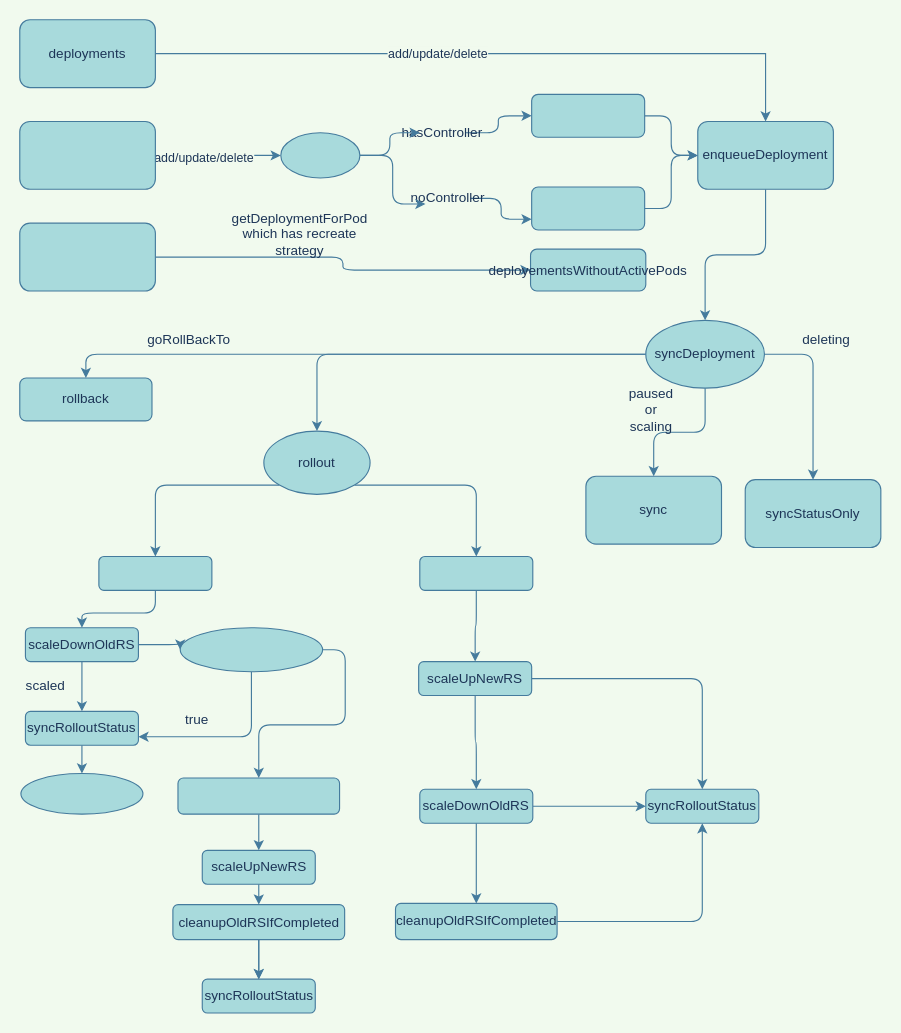
Image size: 901x1033. Some labels were removed from this diagram. The centre of each missing label's shape, as x and y in pixels:
"anyDeploymentsCanAdopt" belongs at (x=588, y=208).
"checkOldRunningPods" belongs at (x=251, y=649).
"createNewRSIfNotExisted" belongs at (x=258, y=795).
"deploymentAsTheCOntroller" belongs at (x=588, y=115).
"pods" belongs at (x=87, y=256).
"recreate" belongs at (x=155, y=572).
"replicasets" belongs at (x=87, y=154).
"rolling" belongs at (x=476, y=572).
"waitNextProcess" belongs at (x=81, y=793).
